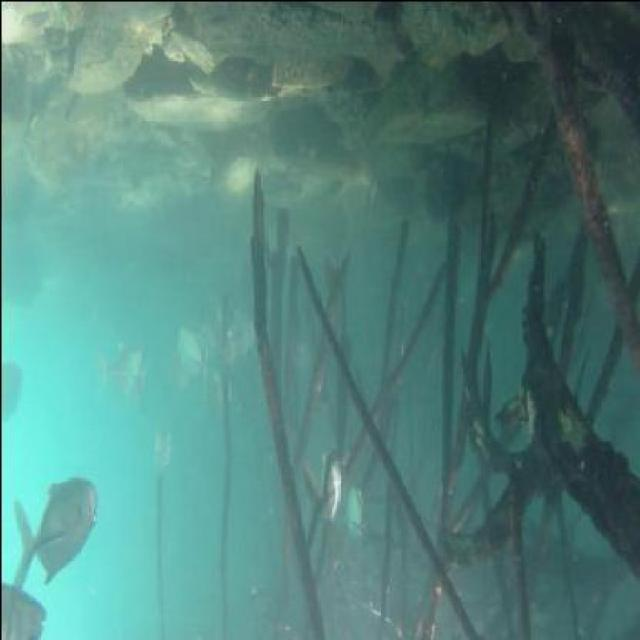Caranx_sexfasciatus_juvenile: (9, 466, 97, 592), (294, 432, 348, 542), (2, 578, 49, 640), (170, 319, 208, 393), (84, 339, 134, 395), (220, 302, 260, 366), (0, 354, 25, 438), (340, 482, 368, 552), (148, 412, 175, 476), (123, 337, 149, 397), (209, 368, 236, 424)
